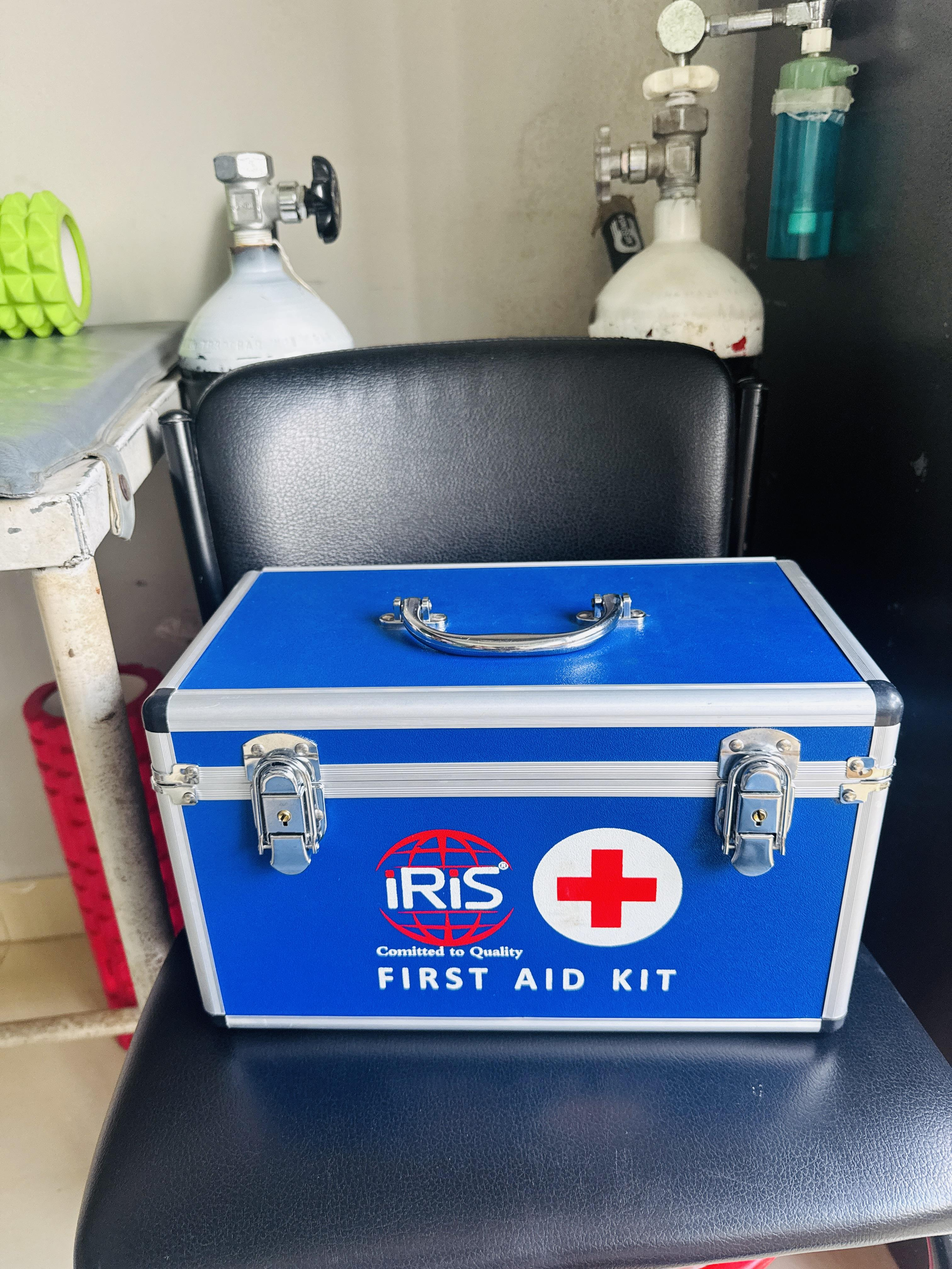FirstAidBox: (124, 533, 920, 1071)
